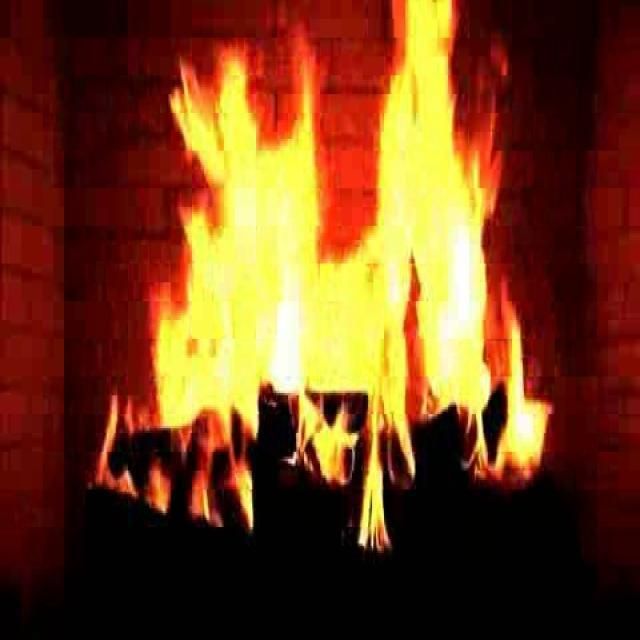Fire: (89, 97, 640, 561)
